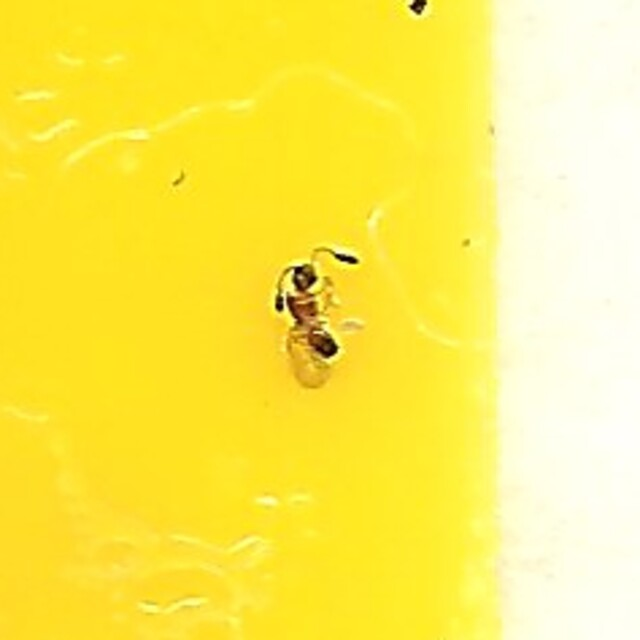Hymenoptera: (270, 249, 370, 391)
